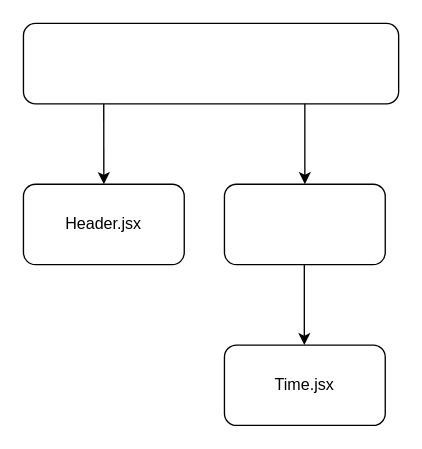
Some shapes in this 422 by 449 pixel diagram are drawn without their labels. Each missing label, with the box of its shape:
App.jsx: (22, 22, 399, 104)
Main.jsx: (223, 183, 385, 265)
